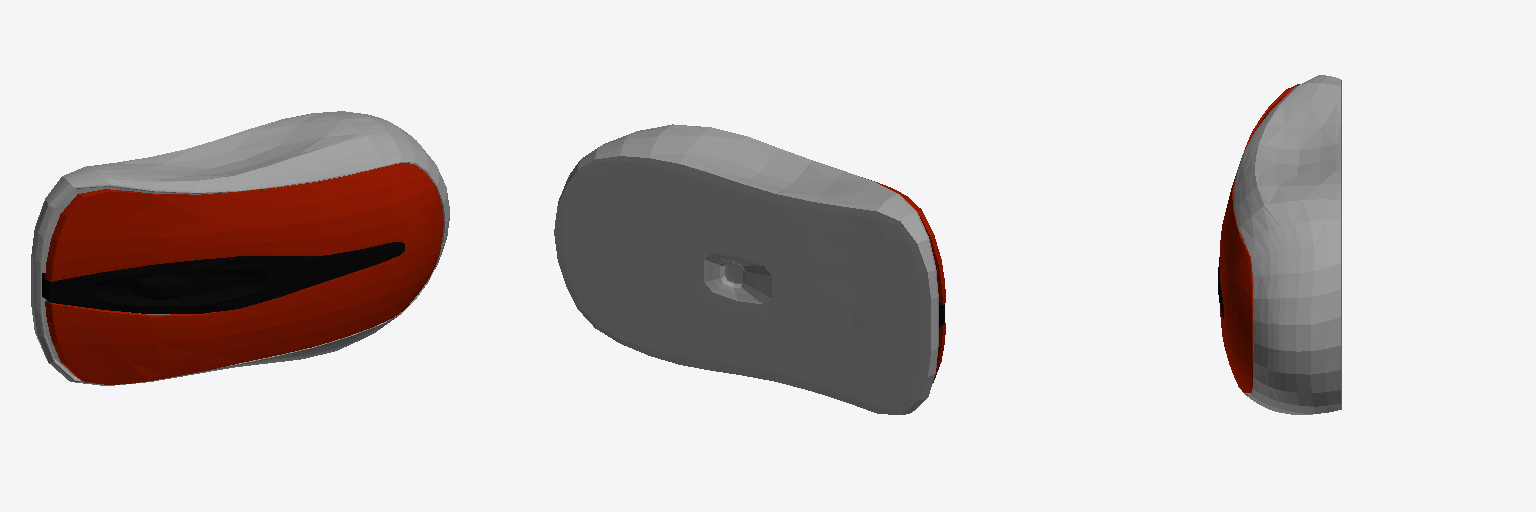
The model's file is Mouse.obj.
3 renders of one model, left to right at view 1: azimuth 30°, elevation 25°; view 2: azimuth 150°, elevation 25°; view 3: azimuth 270°, elevation 25°, orthographic.
Parts seen in each view (by area): view 1: Cylinder_Cylinder.001; view 2: Cylinder_Cylinder.001; view 3: Cylinder_Cylinder.001.
Part boxes in pixels (x1,y1,x2,y2): Cylinder_Cylinder.001: (31, 111, 449, 385); Cylinder_Cylinder.001: (554, 124, 945, 414); Cylinder_Cylinder.001: (1218, 75, 1341, 414).
Size of the model in its own units: 9.05 by 4.64 by 2.48.